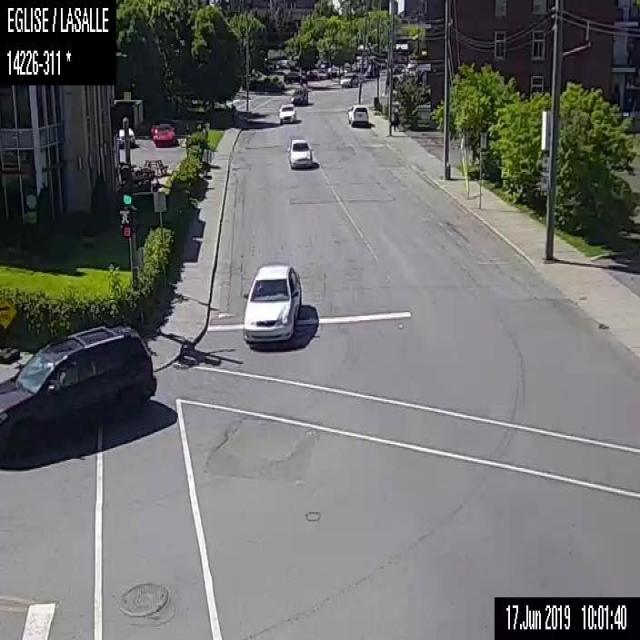vehicle: (0, 324, 158, 448), (240, 258, 302, 342), (288, 136, 313, 168), (148, 120, 176, 146), (346, 103, 369, 128), (116, 125, 134, 149), (277, 102, 296, 124), (290, 82, 308, 104), (282, 71, 306, 84), (339, 71, 358, 86)
